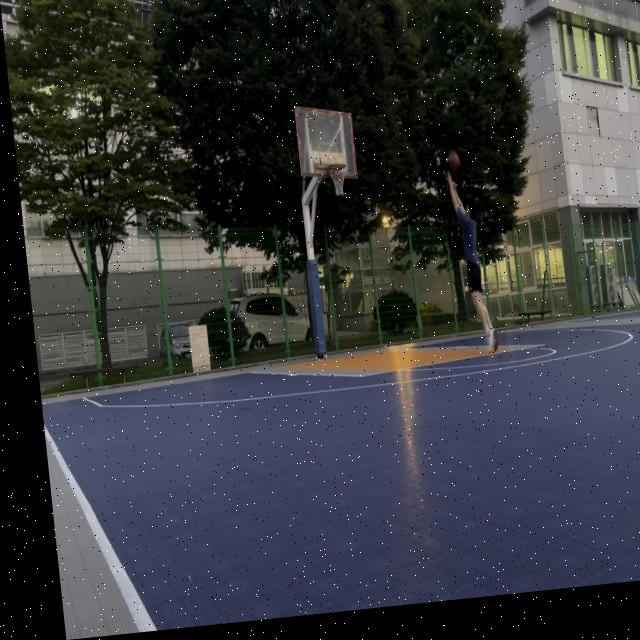basketball: (447, 149, 462, 170)
hoop: (328, 162, 349, 197)
